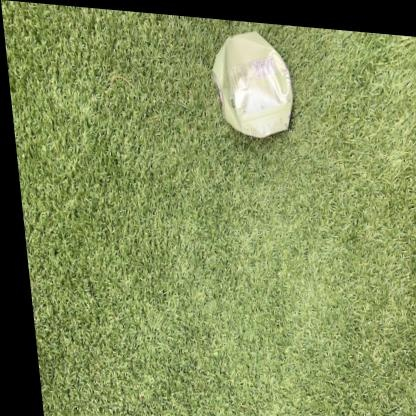trash: (213, 32, 292, 137)
